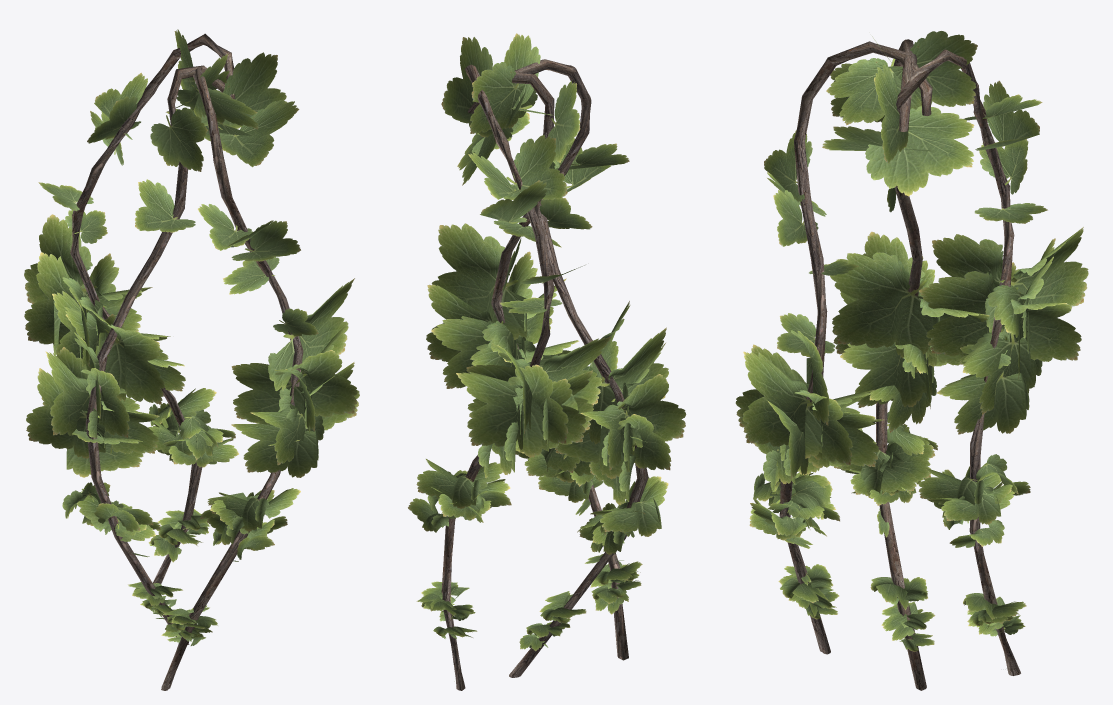
Rendered from Climbing12.fbx.
3 renders of one model, left to right at view 1: azimuth 30°, elevation 25°; view 2: azimuth 150°, elevation 25°; view 3: azimuth 270°, elevation 25°, orthographic. The views are drawn at different scales.
Visible parts, largest first — view 1: climbing12; view 2: climbing12; view 3: climbing12.
Part boxes in pixels (box(x1,y1,x2,y2)): climbing12: box(24, 29, 359, 690); climbing12: box(408, 33, 686, 690); climbing12: box(735, 31, 1088, 690).
Size of the model in its own units: 450 by 905 by 448.
